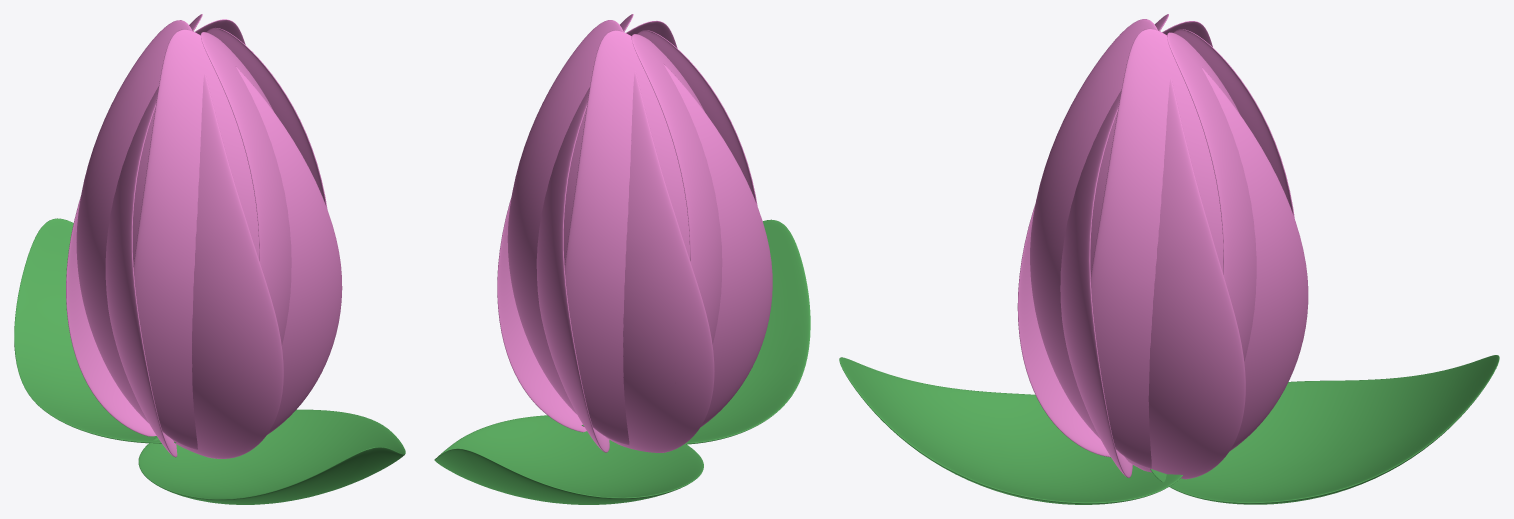
Rendered from lotus flower closed.fbx.
The picture shows the model from 3 angles, left to right: view 1: azimuth 30°, elevation 25°; view 2: azimuth 150°, elevation 25°; view 3: azimuth 270°, elevation 25°; orthographic projection. The views are drawn at different scales.
Visible parts, largest first — view 1: pCube19, pCube24, pCube26, pCube25, pCube20, pCube23, pCube22, pCube21; view 2: pCube23, pCube22, pCube25, pCube26, pCube24, pCube21, pCube20, pCube19; view 3: pCube21, pCube20, pCube25, pCube26, pCube22, pCube19, pCube24, pCube23.
Part boxes in pixels (bbox=[...]): pCube19: bbox=[133, 29, 342, 449]; pCube24: bbox=[76, 20, 283, 458]; pCube26: bbox=[138, 409, 405, 504]; pCube25: bbox=[14, 218, 175, 443]; pCube20: bbox=[200, 32, 291, 345]; pCube23: bbox=[105, 14, 202, 457]; pCube22: bbox=[66, 19, 245, 436]; pCube21: bbox=[206, 28, 327, 208]; pCube23: bbox=[564, 30, 772, 445]; pCube22: bbox=[507, 20, 714, 452]; pCube25: bbox=[434, 415, 703, 504]; pCube26: bbox=[581, 219, 810, 444]; pCube24: bbox=[631, 34, 722, 344]; pCube21: bbox=[536, 14, 633, 452]; pCube20: bbox=[497, 20, 677, 432]; pCube19: bbox=[637, 30, 757, 205]; pCube21: bbox=[1090, 28, 1308, 468]; pCube20: bbox=[1030, 19, 1245, 479]; pCube25: bbox=[1150, 355, 1499, 504]; pCube26: bbox=[839, 357, 1182, 504]; pCube22: bbox=[1167, 32, 1256, 361]; pCube19: bbox=[1060, 14, 1168, 477]; pCube24: bbox=[1017, 21, 1212, 457]; pCube23: bbox=[1173, 29, 1294, 217].
Size of the model in its own units: 3.4 by 5.87 by 7.84.
